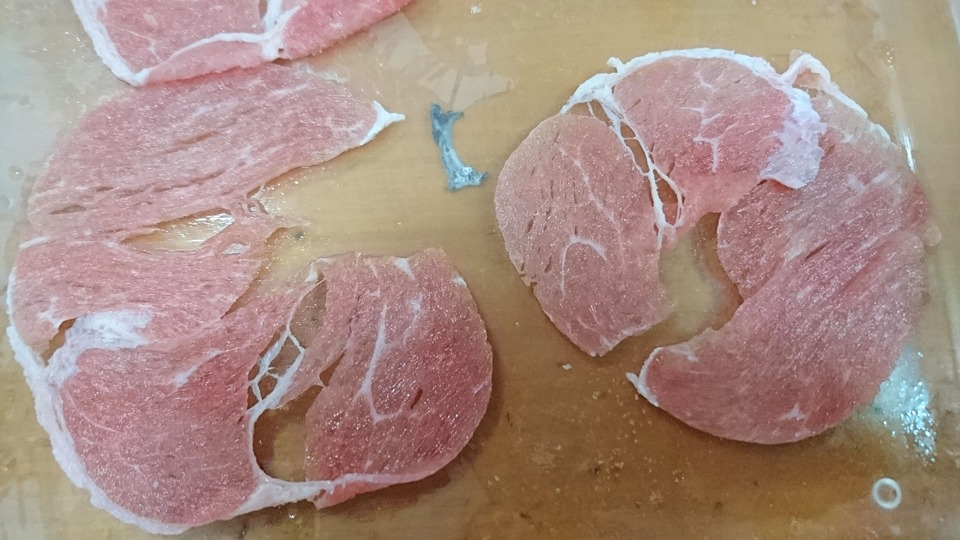restructured meat: (26, 85, 488, 512), (489, 38, 930, 449), (67, 1, 432, 77)
